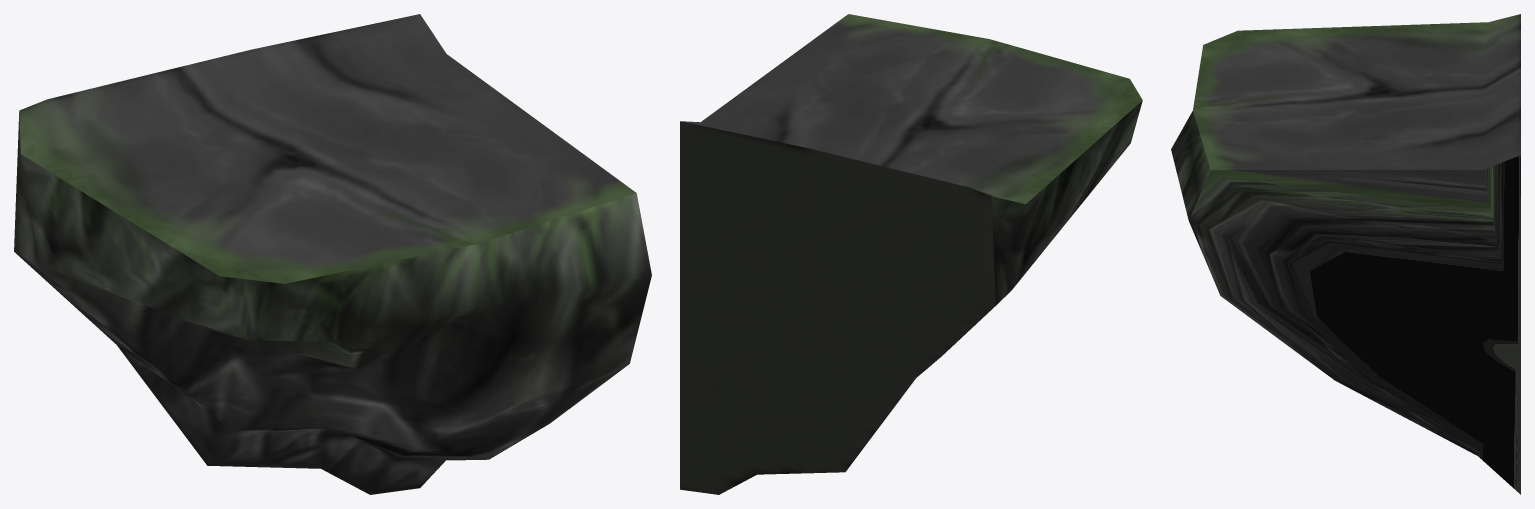
File: cliff_left.FBX
3 renders of one model, left to right at view 1: azimuth 30°, elevation 25°; view 2: azimuth 150°, elevation 25°; view 3: azimuth 270°, elevation 25°, orthographic. The views are drawn at different scales.
Visible parts, largest first — view 1: cliff_left; view 2: cliff_left; view 3: cliff_left.
Boxes of the visible parts, bbox=[...] form: cliff_left: bbox=[14, 14, 651, 494]; cliff_left: bbox=[680, 14, 1142, 494]; cliff_left: bbox=[1171, 14, 1520, 494].
Size of the model in its own units: 23.31 by 25.32 by 23.35.
Materials: 1 (1 with a texture image).
